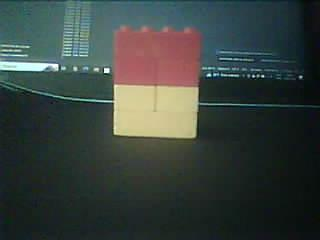lego: (113, 24, 202, 138)
